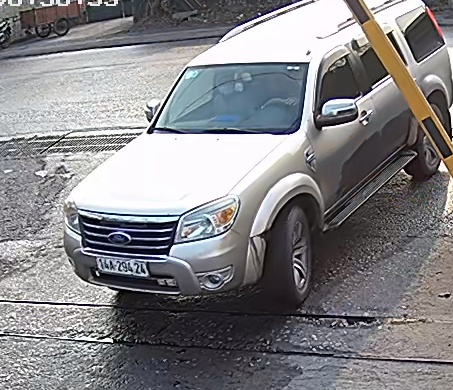vehicle plate: (92, 250, 154, 279)
